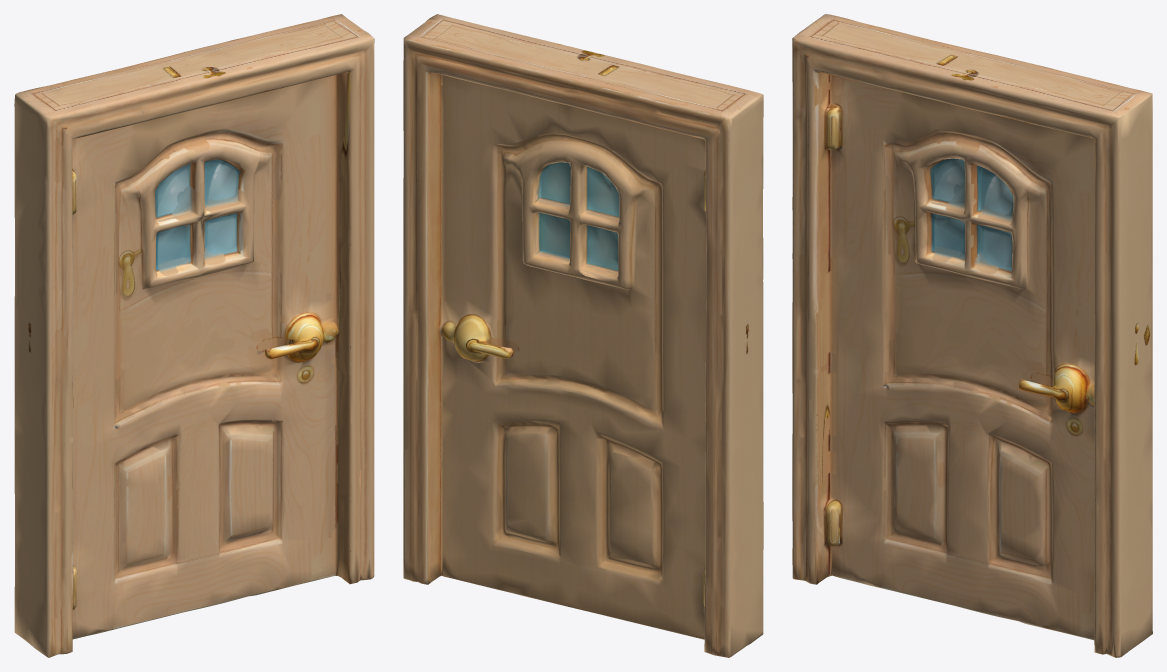
File: door.glb
3 views of the same model, side by side, from view 1: azimuth 30°, elevation 25°; view 2: azimuth 150°, elevation 25°; view 3: azimuth 330°, elevation 25° (orthographic).
Bounding box in the file's own units: 41757 × 65711 × 8286.
1 material, 1 textured.
